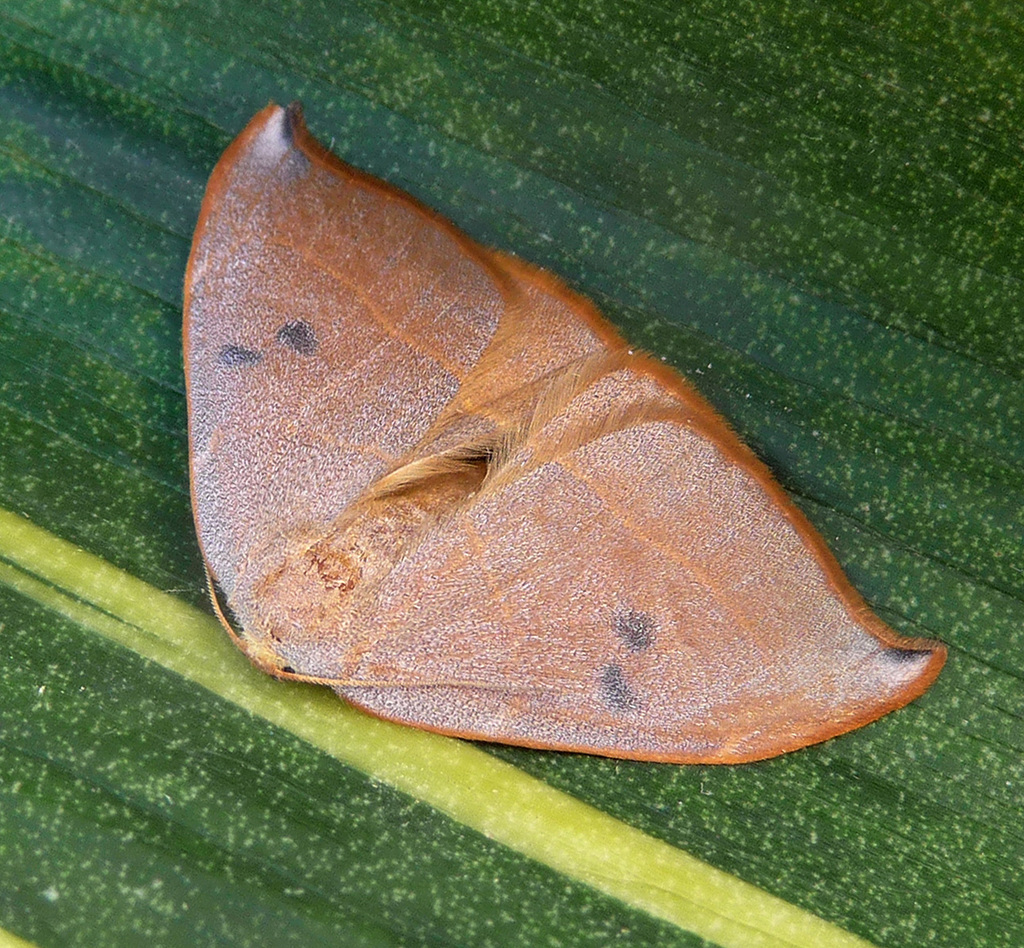Butterfly: (175, 72, 961, 778)
